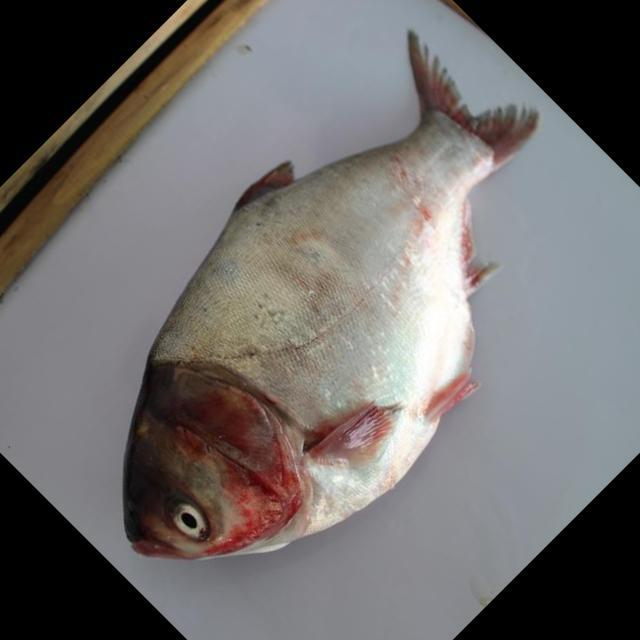SilverCarp: (118, 60, 522, 560)
